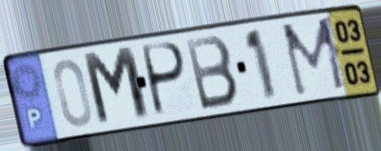0: (52, 57, 95, 130)
1: (243, 26, 280, 103)
B: (182, 33, 241, 113)
M: (79, 44, 155, 131), (278, 14, 351, 101)
P: (141, 40, 189, 120)
